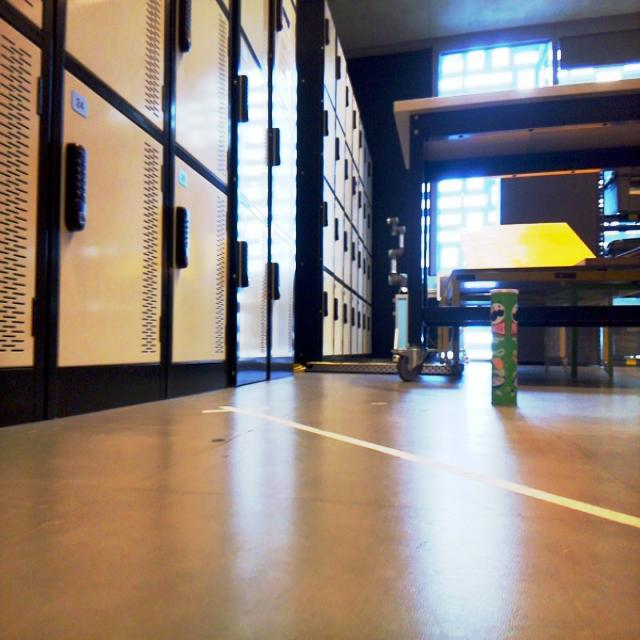greenpringles: (479, 268, 535, 422)
